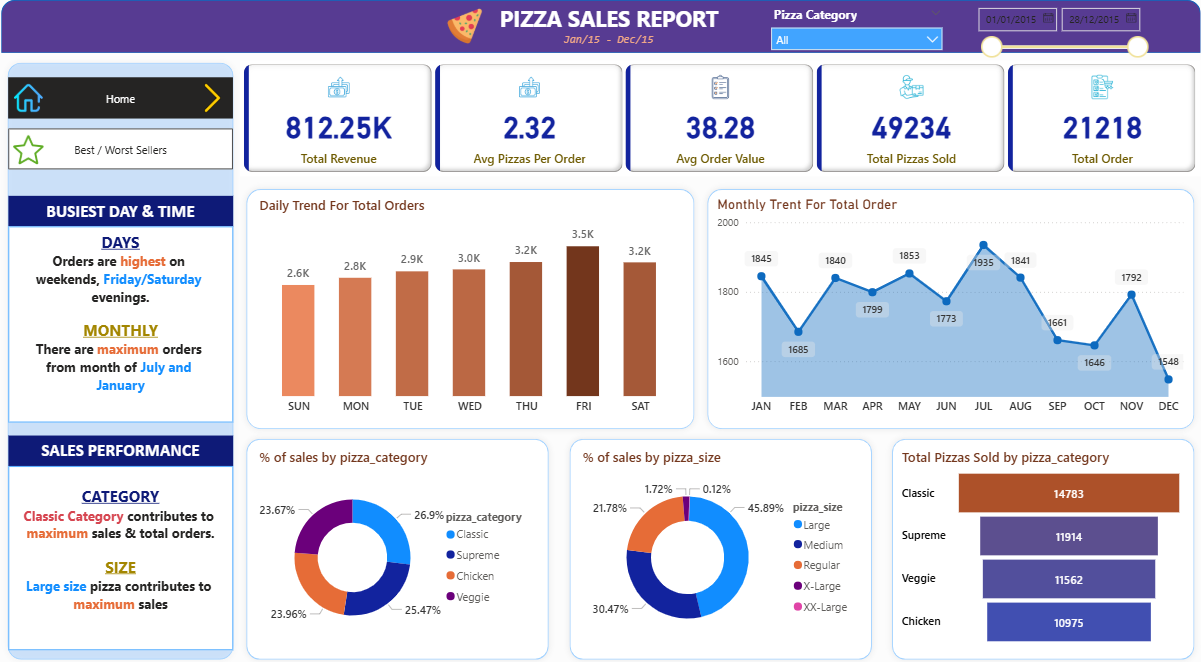

The page's visual inventory and layout, read from the dashboard file:
{"tool":"powerbi","page":{"name":"Home","canvas":[1500,820],"ordinal":0},"visuals":[{"type":"shape","box":[15,68.8,292.5,747.5],"z":0},{"type":"cardVisual","fields":{"Data":["pizza_sales.Total Revenue","pizza_sales.Avg Pizzas Per Order","pizza_sales.Avg Order Value","pizza_sales.Total Pizzas Sold","pizza_sales.Total Order"]},"box":[307.5,73.8,1177.5,142.5],"z":1000},{"type":"shape","box":[15,0,1470,65],"z":2000},{"type":"textbox","box":[610,0,300,50],"z":3000},{"type":"textbox","box":[693.8,32.5,131.2,32.5],"z":4000},{"type":"image","box":[555,5,55,53.8],"z":5000},{"type":"shape","box":[307.5,223.8,565,310],"z":6000},{"type":"columnChart","title":"Daily Trend For Total Orders","fields":{"Category":["pizza_sales.Order Day"],"Y":["pizza_sales.Total Order"]},"box":[326.2,240,526.2,277.5],"z":7000},{"type":"shape","box":[872.5,223.8,612.5,310],"z":8000},{"type":"areaChart","title":"Monthly Trent  For Total Order","fields":{"Category":["pizza_sales.Order Month"],"Y":["pizza_sales.Total Order"]},"box":[887.5,240,581.2,277.5],"z":9000},{"type":"shape","box":[307.5,530,386.2,286.2],"z":10000},{"type":"shape","box":[703.8,530,386.2,286.2],"z":11000},{"type":"shape","box":[1098.8,530,386.2,286.2],"z":12000},{"type":"donutChart","title":"% of sales by pizza_category","fields":{"Category":["pizza_sales.pizza_category"],"Y":["pizza_sales.Total Revenue"]},"box":[326.2,548.8,347.5,247.5],"z":13000},{"type":"donutChart","title":"% of sales by pizza_size","fields":{"Y":["pizza_sales.Total Revenue"],"Category":["pizza_sales.pizza_size"]},"box":[722.5,548.8,347.5,247.5],"z":14000},{"type":"funnel","fields":{"Category":["pizza_sales.pizza_category"],"Y":["pizza_sales.Total Pizzas Sold"]},"box":[1113.8,548.8,355,247.5],"z":15000},{"type":"textbox","box":[23.8,240,275,37.5],"z":16000},{"type":"textbox","box":[23.8,277.5,275,240],"z":17000},{"type":"textbox","box":[24.2,534.2,275,37.5],"z":18000},{"type":"textbox","box":[24.2,571.7,275,225],"z":19000},{"type":"slicer","fields":{"Values":["pizza_sales.pizza_category"]},"box":[948.8,2.5,230,60],"z":20000},{"type":"slicer","fields":{"Values":["pizza_sales.order_date"]},"box":[1200,0,230,73.8],"z":21000},{"type":"image","box":[248.8,97.5,50,45],"z":22000},{"type":"pageNavigator","box":[23.8,95,275,50],"z":23000},{"type":"pageNavigator","box":[23.8,157.5,275,50],"z":24000},{"type":"image","box":[251.2,97.5,45,45],"z":25000},{"type":"image","box":[23.8,97.5,48.8,45],"z":26000},{"type":"image","box":[23.8,160,48.8,47.5],"z":27000}]}

Visuals, with their boxes in screenshot pixels (x1, y1, x2, y2), scaled from the page's 1500x820 canvas onto the 1201x662 screenshot:
shape: 12, 56, 246, 659
cardVisual - pizza_sales.Total Revenue x pizza_sales.Avg Pizzas Per Order: 246, 60, 1189, 175
shape: 12, 0, 1189, 52
textbox: 488, 0, 729, 40
textbox: 556, 26, 661, 52
image: 444, 4, 488, 47
shape: 246, 181, 699, 431
"Daily Trend For Total Orders" columnChart: 261, 194, 682, 418
shape: 699, 181, 1189, 431
"Monthly Trent  For Total Order" areaChart: 711, 194, 1176, 418
shape: 246, 428, 555, 659
shape: 564, 428, 873, 659
shape: 880, 428, 1189, 659
"% of sales by pizza_category" donutChart: 261, 443, 539, 643
"% of sales by pizza_size" donutChart: 578, 443, 857, 643
funnel - pizza_sales.pizza_category x pizza_sales.Total Pizzas Sold: 892, 443, 1176, 643
textbox: 19, 194, 239, 224
textbox: 19, 224, 239, 418
textbox: 19, 431, 240, 462
textbox: 19, 462, 240, 643
slicer - pizza_sales.pizza_category: 760, 2, 944, 50
slicer - pizza_sales.order_date: 961, 0, 1145, 60
image: 199, 79, 239, 115
pageNavigator: 19, 77, 239, 117
pageNavigator: 19, 127, 239, 168
image: 201, 79, 237, 115
image: 19, 79, 58, 115
image: 19, 129, 58, 168
